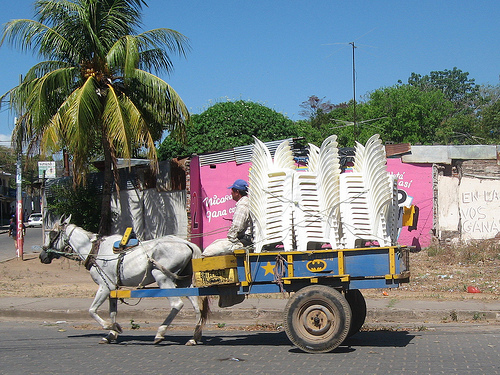horse: (40, 216, 207, 347)
